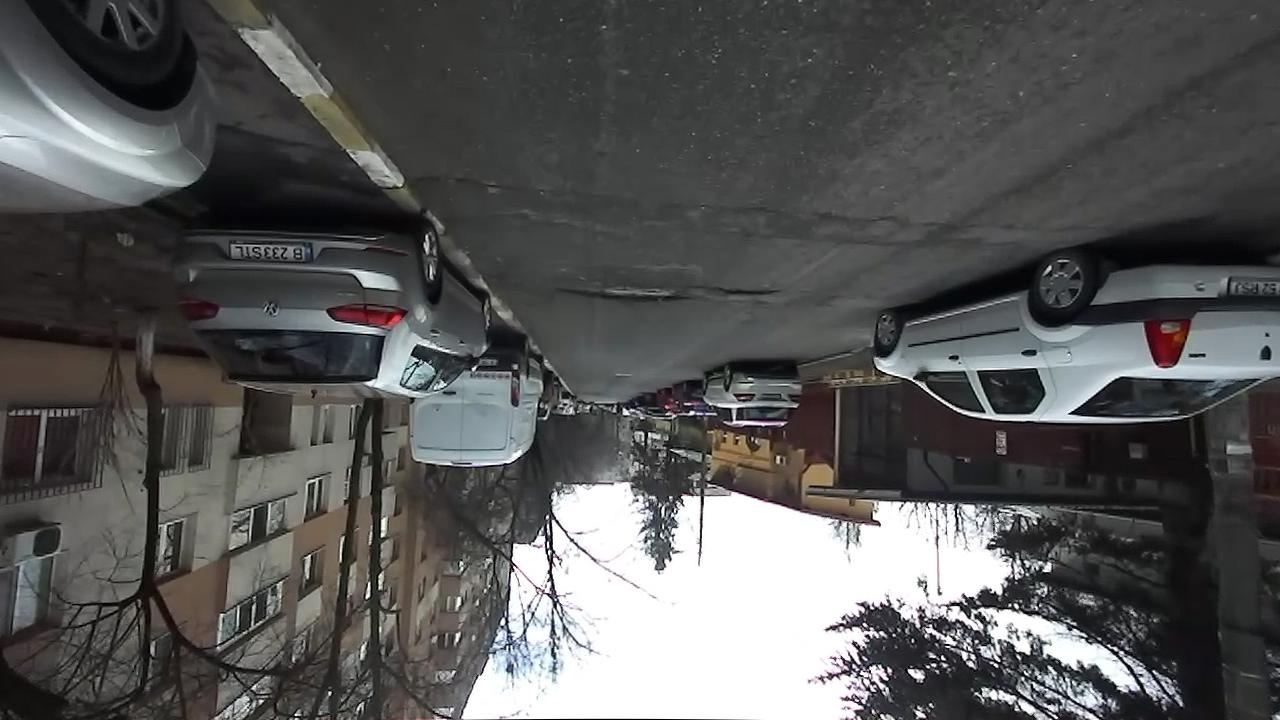pothole: (552, 282, 693, 306), (418, 170, 519, 193), (711, 285, 782, 299)
